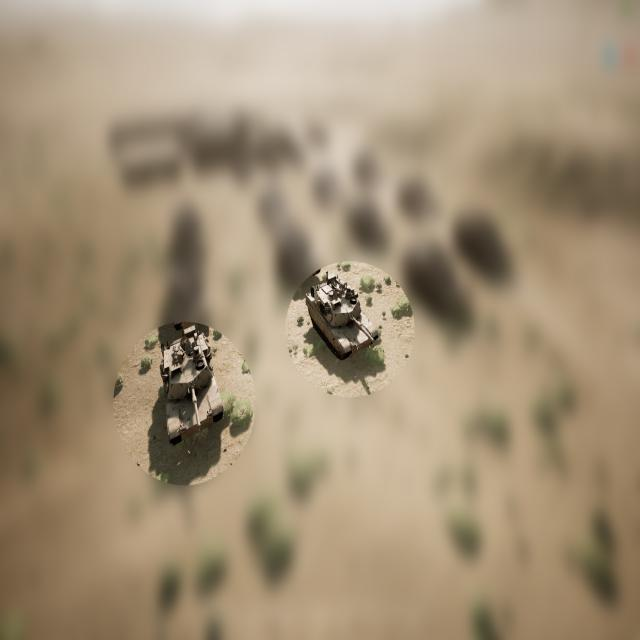tank: (159, 323, 223, 447), (304, 273, 380, 360)
